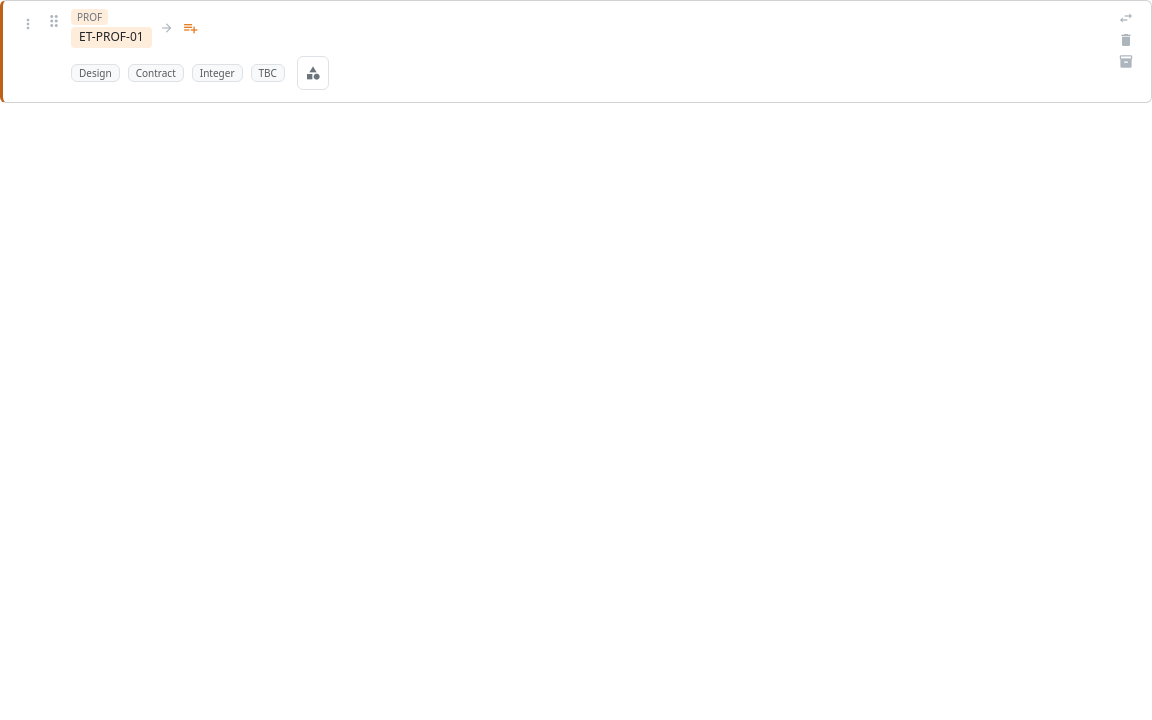
Scenario: deleting from inside a shared wrapper › names the other positions rather than silently changing them
This screenshot has width=1152, height=720.
Click the button titled "Mark IsDeleted": (1126, 40) [1117, 31, 1135, 49]
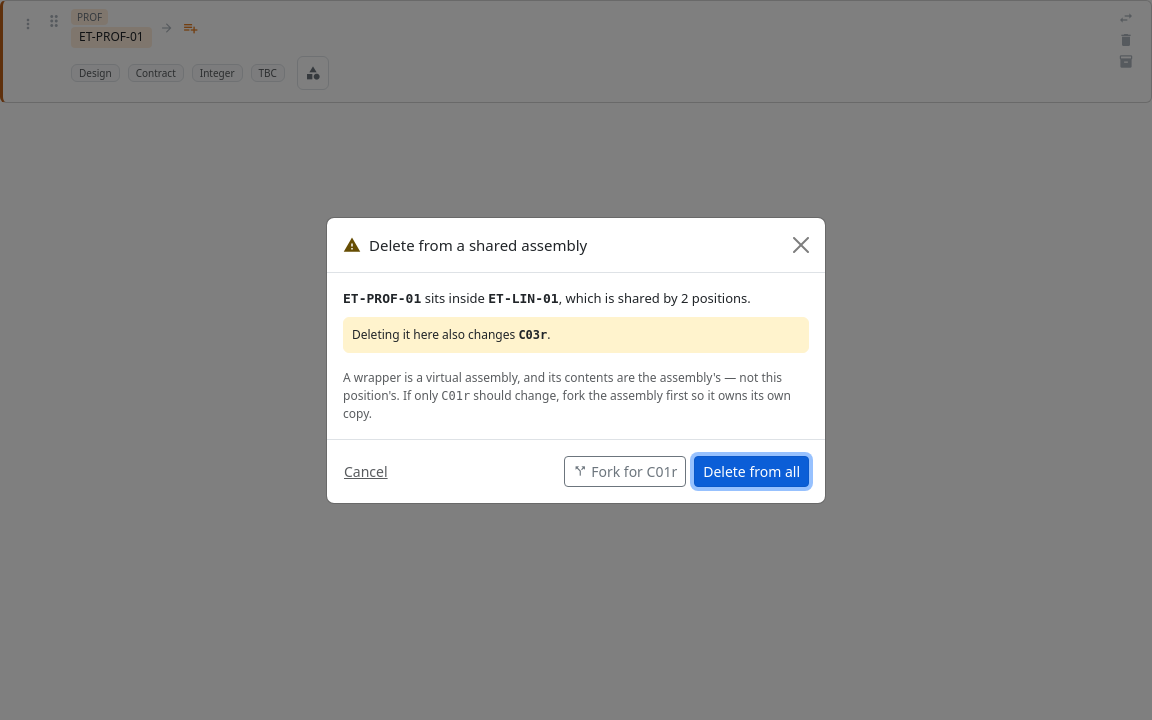
Result: the text "Delete from a shared assembly" is shown at [343, 234, 587, 256]
Result: the text "C03r" is shown at [518, 328, 547, 342]
